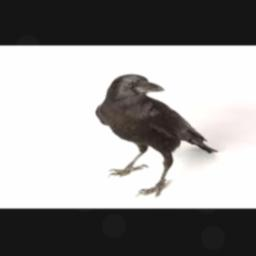Crow: (94, 73, 217, 198)
